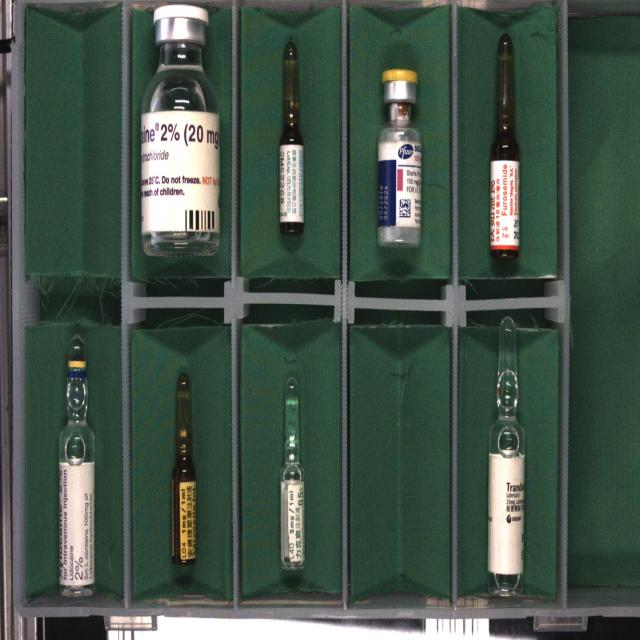Vials: (141, 4, 219, 255), (377, 68, 421, 247)
